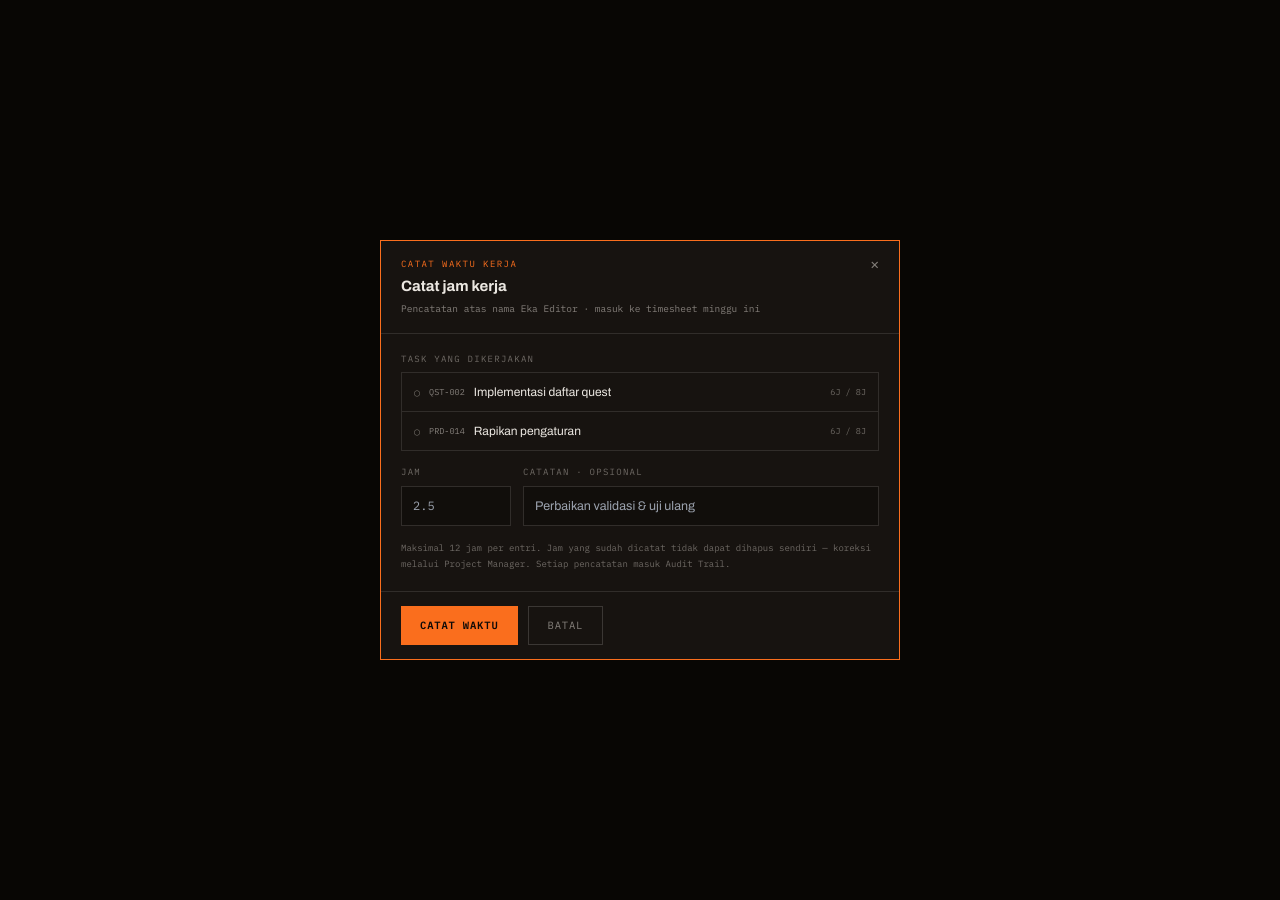
Scenario: LogTimeModal › tanpa memilih task: pesan pilih task, tidak terkirim
The width and height of the screenshot is (1280, 900).
What coordinates should you click on to do the following:
click the button "CATAT WAKTU"
I would click on:
 (459, 626)
Its box is x1=401 y1=606 x2=518 y2=646.
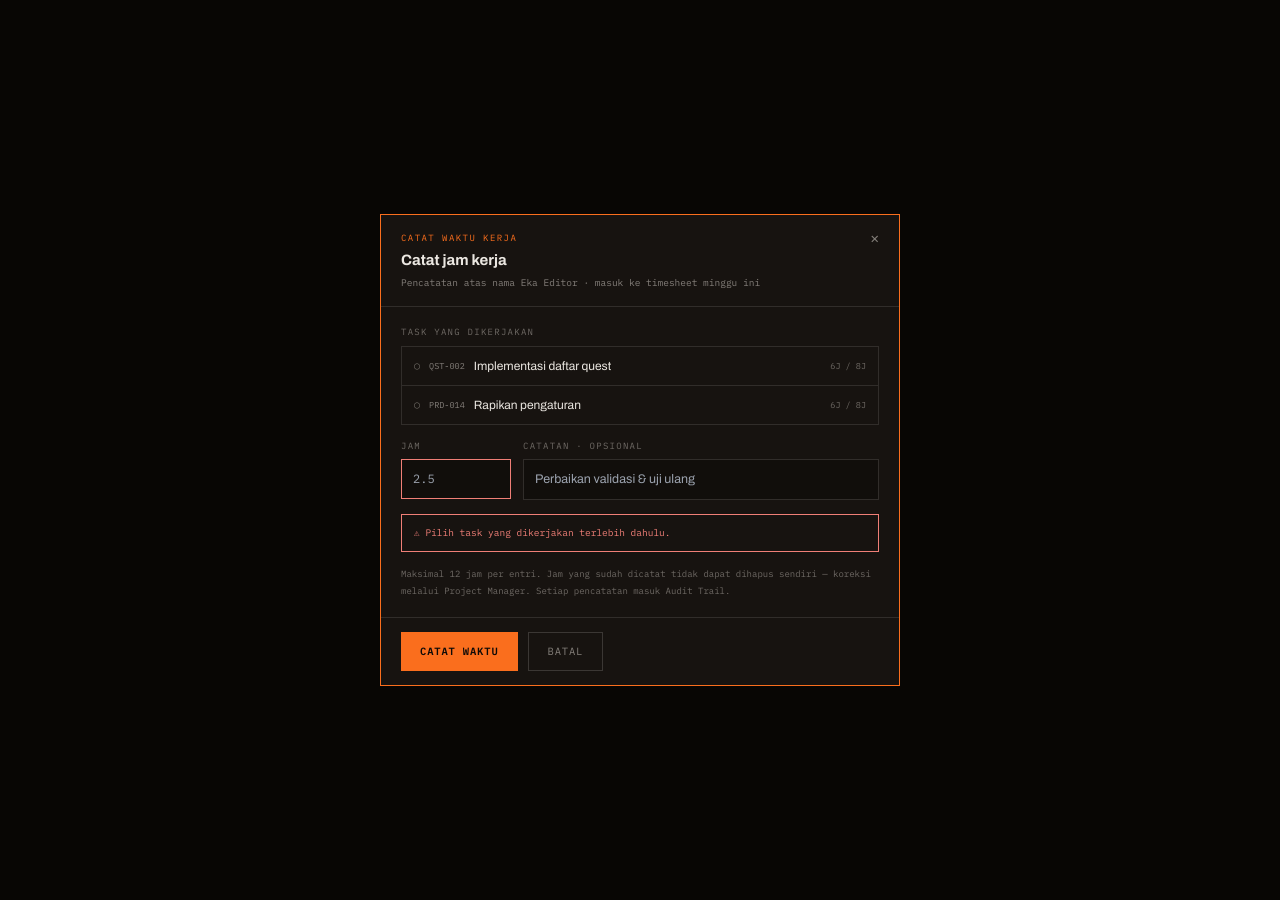
Result: the text "⚠ Pilih task yang dikerjakan terlebih dahulu." is shown at x1=401 y1=514 x2=879 y2=552
